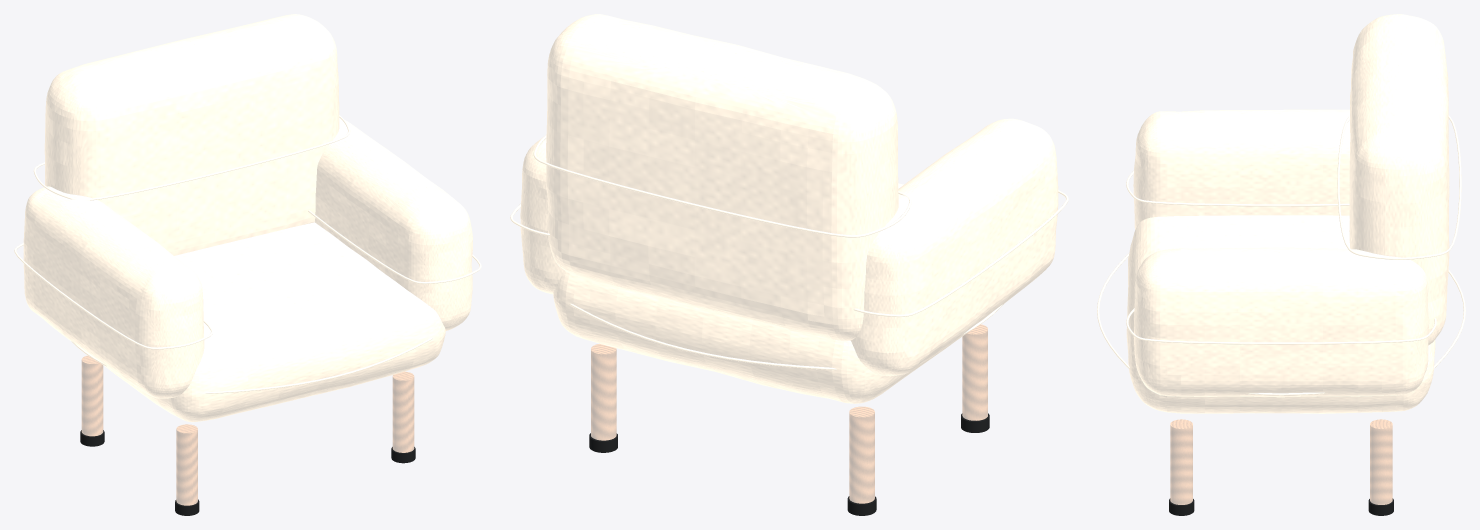
File: ref07_05.glb
3 renders of one model, left to right at view 1: azimuth 30°, elevation 25°; view 2: azimuth 150°, elevation 25°; view 3: azimuth 270°, elevation 25°, orthographic. The views are drawn at different scales.
Visible parts, largest first — view 1: ref07_05; view 2: ref07_05; view 3: ref07_05.
Boxes of the visible parts, left/top/right/bottom form: ref07_05: left=14, top=14, right=481, bottom=515; ref07_05: left=510, top=14, right=1068, bottom=515; ref07_05: left=1097, top=14, right=1465, bottom=515.
Size of the model in its own units: 0.9449 by 0.9341 by 0.8127.
Materials: 3 (2 with a texture image).
